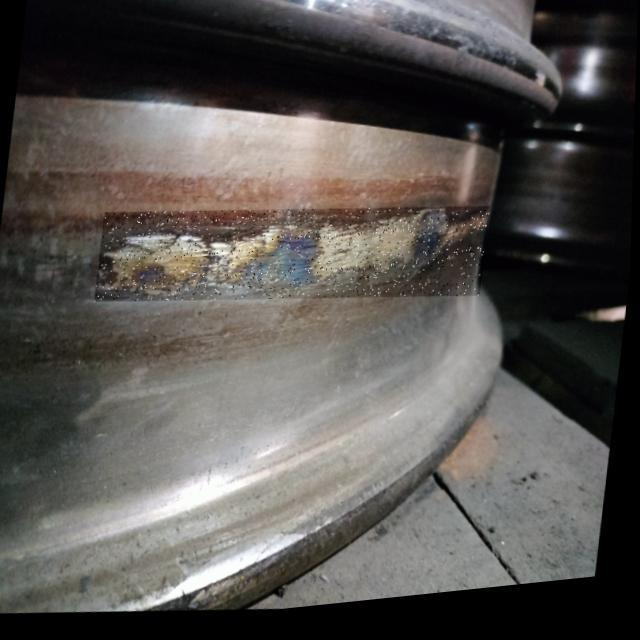Rollerpile: (96, 184, 493, 338)
